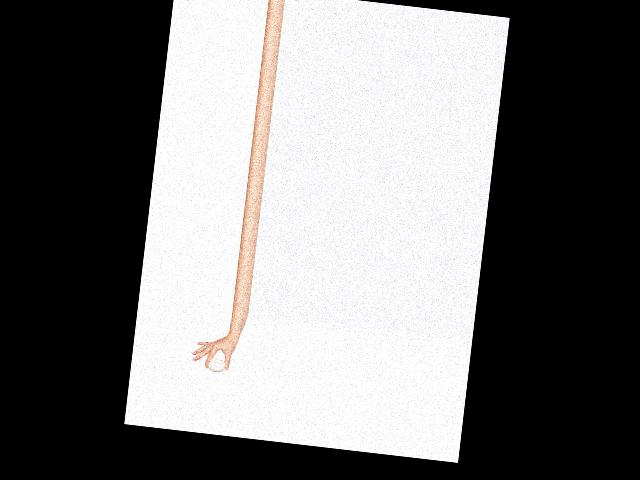egg: (207, 358, 226, 373)
